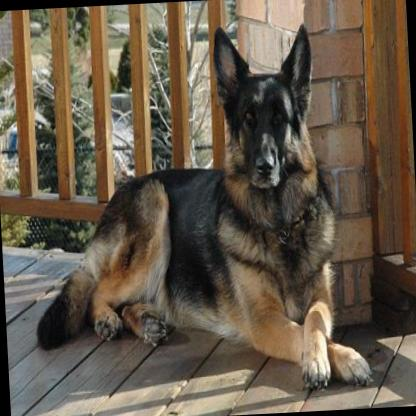German_shepherd: (20, 18, 373, 403)
